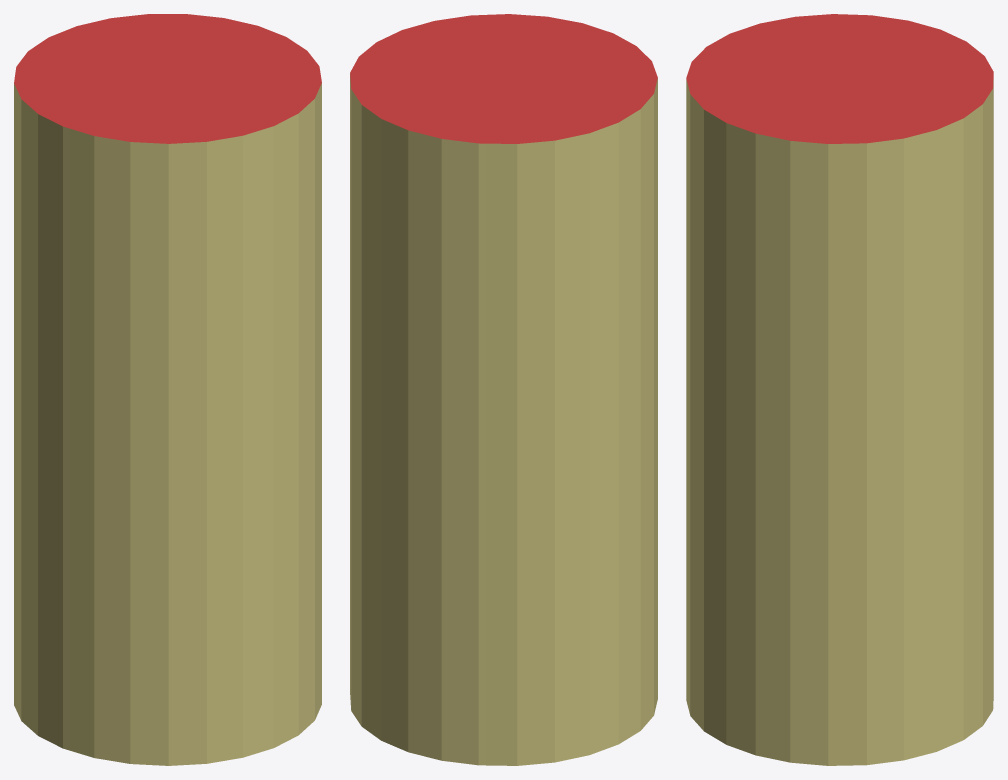
3 views of the same model, side by side, from view 1: azimuth 30°, elevation 25°; view 2: azimuth 150°, elevation 25°; view 3: azimuth 270°, elevation 25° (orthographic).
Size of the model in its own units: 4.33 by 4.32 by 9.65.
